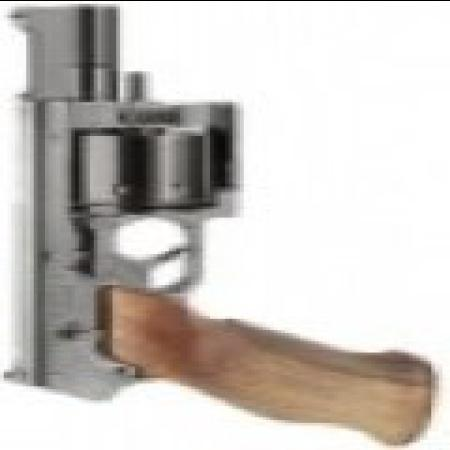Pistol: (4, 3, 424, 441)
